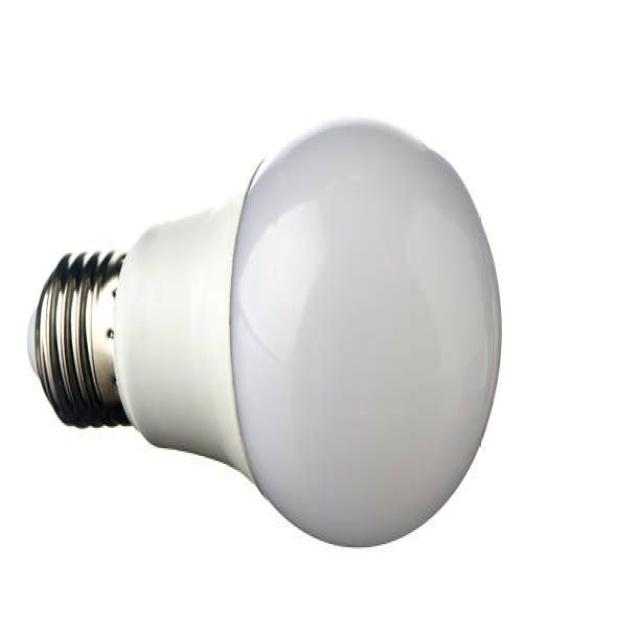electronic: (26, 115, 503, 549)
